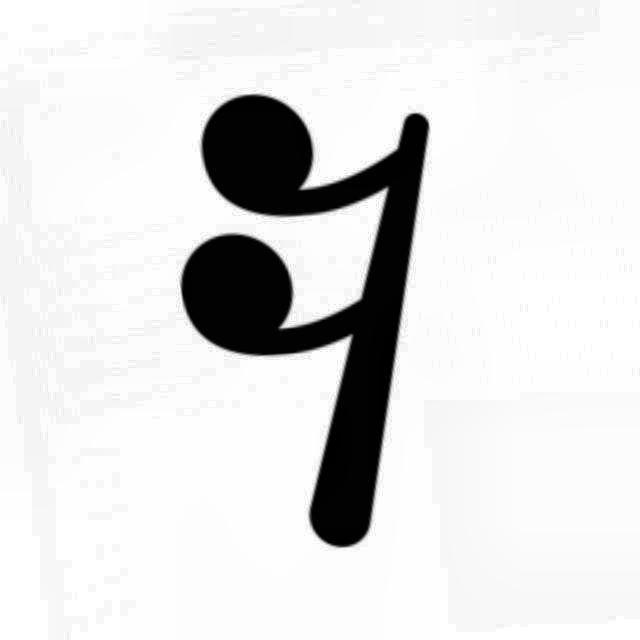Eighth-rest: (152, 76, 503, 568)
